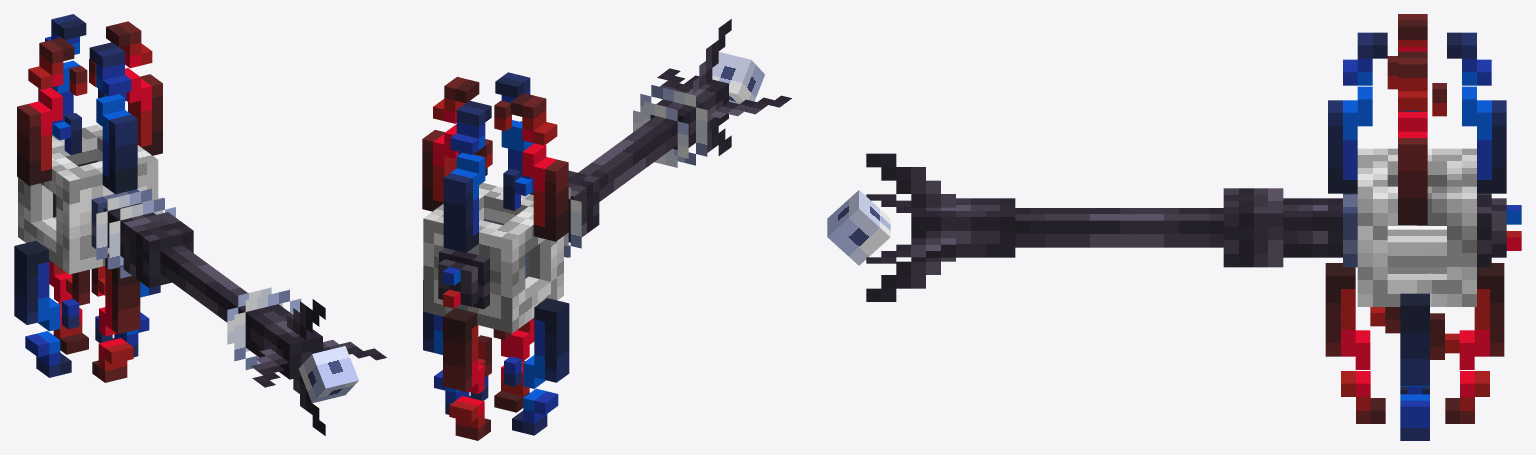
The model's file is galenic_polarizer_level_three.glb.
3 renders of one model, left to right at view 1: azimuth 30°, elevation 25°; view 2: azimuth 150°, elevation 25°; view 3: azimuth 270°, elevation 25°, orthographic. The views are drawn at different scales.
Visible parts, largest first — view 1: main__Tool_R; view 2: main__Tool_R; view 3: main__Tool_R.
Boxes of the visible parts, box(x1,y1,x2,y2) form: main__Tool_R: box(14, 14, 386, 435); main__Tool_R: box(422, 19, 791, 440); main__Tool_R: box(827, 14, 1521, 440).
Size of the model in its own units: 0.7594 by 1.75 by 2.91.
1 material, 1 textured.
